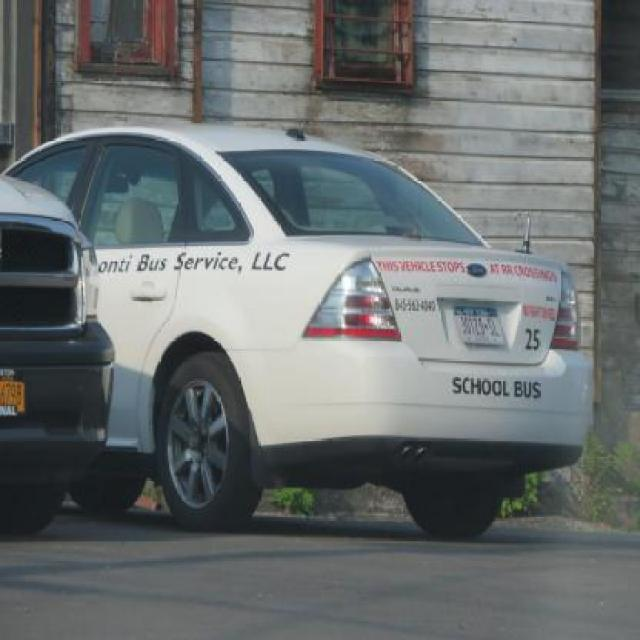License-Plates: (451, 304, 508, 350)
